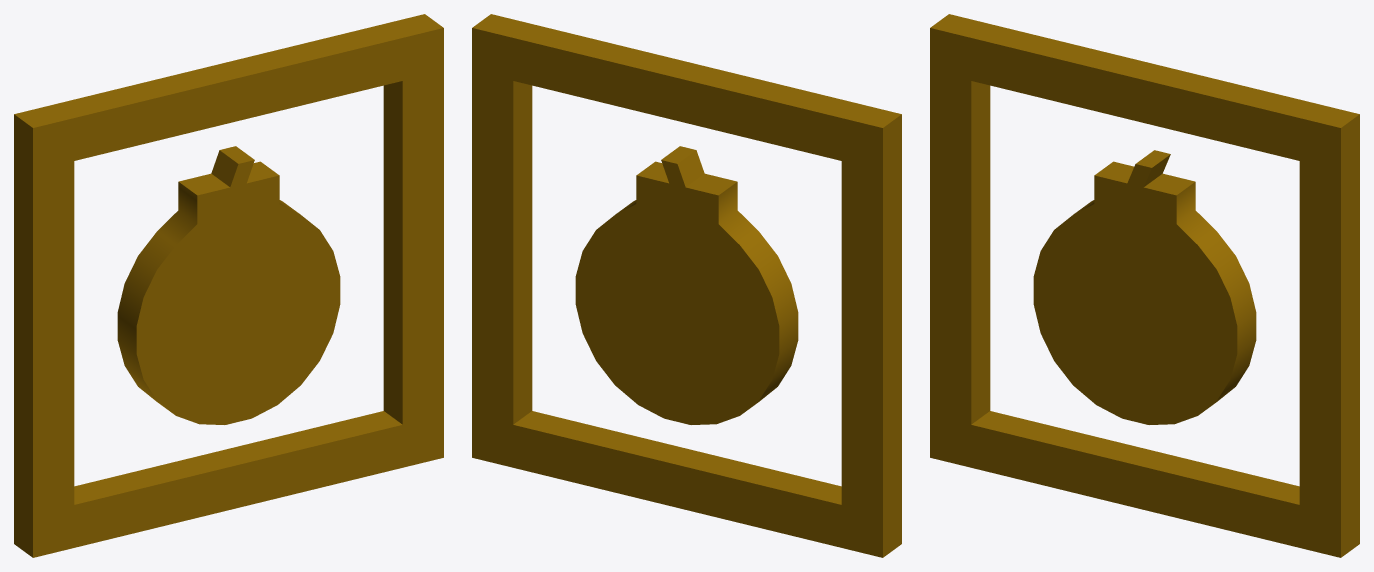
Rendered from bonusBomb.fbx.
3 renders of one model, left to right at view 1: azimuth 30°, elevation 25°; view 2: azimuth 150°, elevation 25°; view 3: azimuth 330°, elevation 25°, orthographic.
Visible parts, largest first — view 1: 03_Bomb 1.001; view 2: 03_Bomb 1.001; view 3: 03_Bomb 1.001.
Boxes of the visible parts, x1,y1,x2,y2 form: 03_Bomb 1.001: [14, 14, 443, 557]; 03_Bomb 1.001: [472, 14, 901, 557]; 03_Bomb 1.001: [930, 14, 1359, 557].
Size of the model in its own units: 1 by 1 by 0.08.
